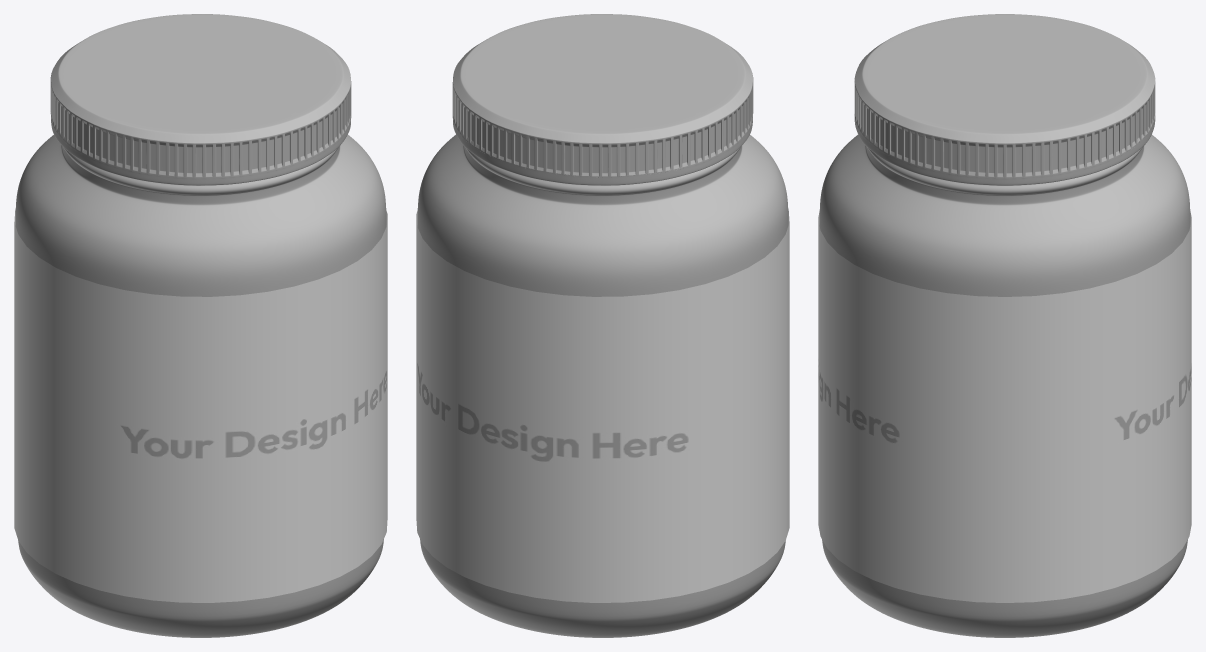
The model's file is Supplement Jar long (4) compressed.glb.
3 renders of one model, left to right at view 1: azimuth 30°, elevation 25°; view 2: azimuth 150°, elevation 25°; view 3: azimuth 270°, elevation 25°, orthographic.
Visible parts, largest first — view 1: Replacer-Label, Bottle, Cap; view 2: Replacer-Label, Bottle, Cap; view 3: Replacer-Label, Bottle, Cap.
Part boxes in pixels (<box>): Replacer-Label: <box>14,209,387,602</box>; Bottle: <box>15,134,386,637</box>; Cap: <box>50,14,351,185</box>; Replacer-Label: <box>416,209,789,602</box>; Bottle: <box>417,134,788,637</box>; Cap: <box>452,14,753,185</box>; Replacer-Label: <box>818,211,1191,602</box>; Bottle: <box>819,134,1190,637</box>; Cap: <box>854,14,1155,185</box>.
Bounding box in the file's own units: 0.8977 × 1.33 × 0.8977.
Materials: 3 (1 with a texture image).
